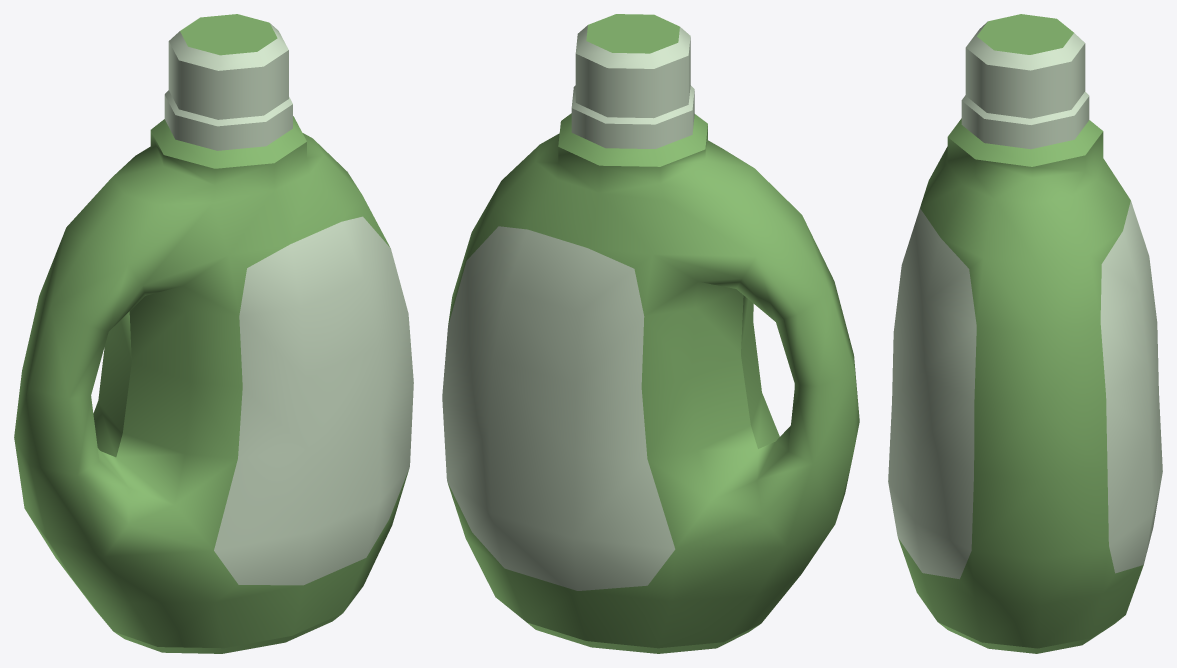
Rendered from bottle_03.fbx.
3 views of the same model, side by side, from view 1: azimuth 30°, elevation 25°; view 2: azimuth 150°, elevation 25°; view 3: azimuth 270°, elevation 25° (orthographic).
Parts seen in each view (by area): view 1: Base37_1__M_Cnsw_58_FloorSet_Obj_Bottle.002; view 2: Base37_1__M_Cnsw_58_FloorSet_Obj_Bottle.002; view 3: Base37_1__M_Cnsw_58_FloorSet_Obj_Bottle.002.
Part boxes in pixels (box(x1,y1,x2,y2)): Base37_1__M_Cnsw_58_FloorSet_Obj_Bottle.002: box(14, 14, 413, 653); Base37_1__M_Cnsw_58_FloorSet_Obj_Bottle.002: box(442, 14, 859, 653); Base37_1__M_Cnsw_58_FloorSet_Obj_Bottle.002: box(888, 14, 1162, 653).
Size of the model in its own units: 7232 by 10224 by 4508.
